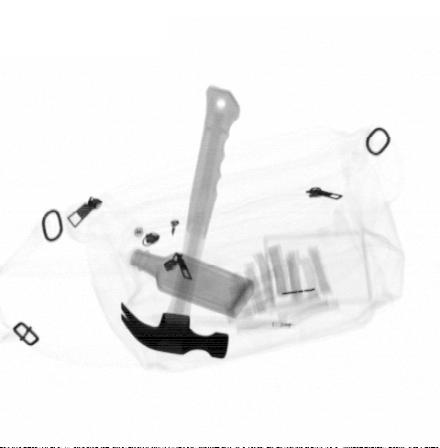Hammer: (120, 84, 241, 359)
